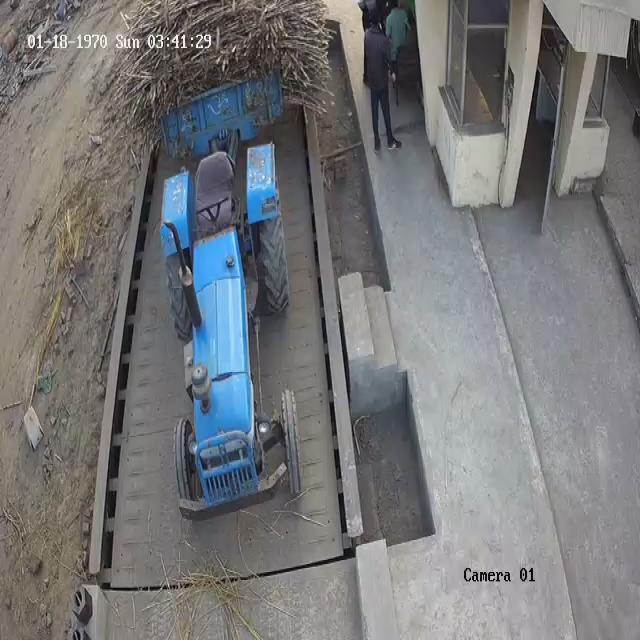Tratores - v5 YOLO V8L 2024-11-13: (148, 146, 305, 522)
